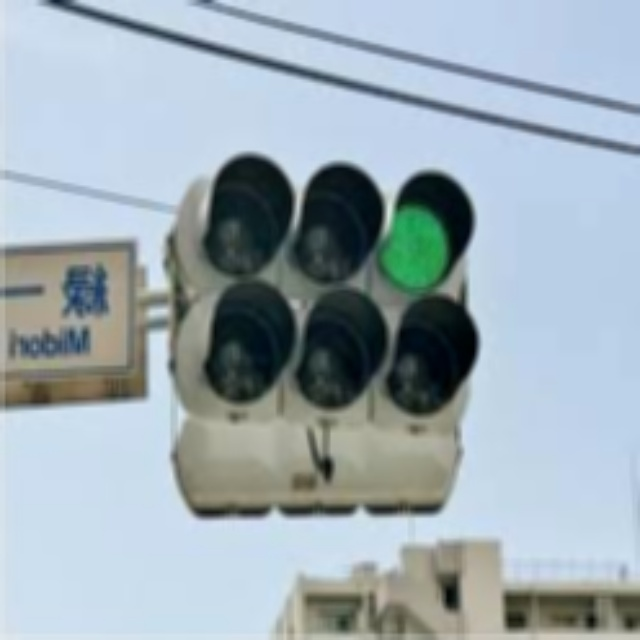green_light: (380, 204, 460, 291)
